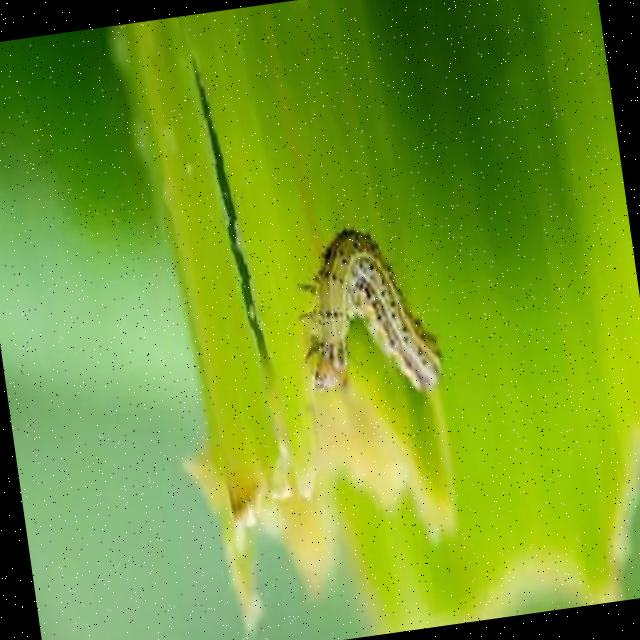worm: (285, 219, 448, 413)
